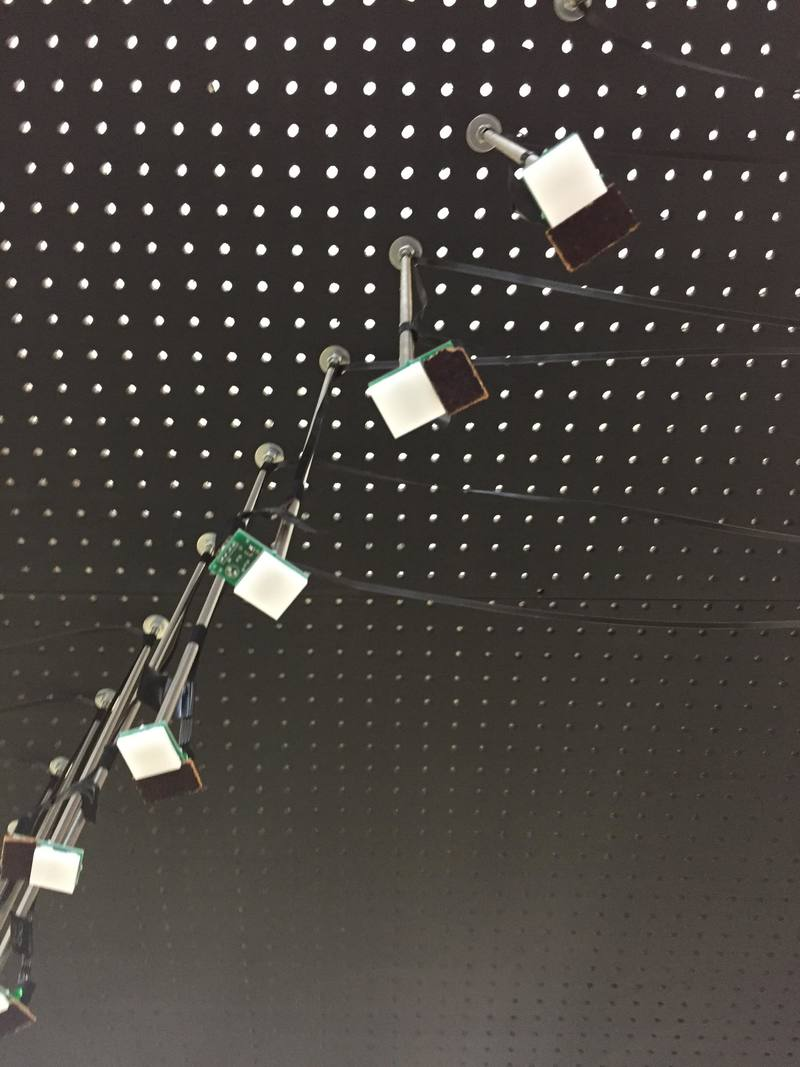target: (522, 129, 614, 225), (365, 363, 451, 444), (224, 551, 312, 627), (109, 725, 190, 784), (28, 844, 85, 895)
